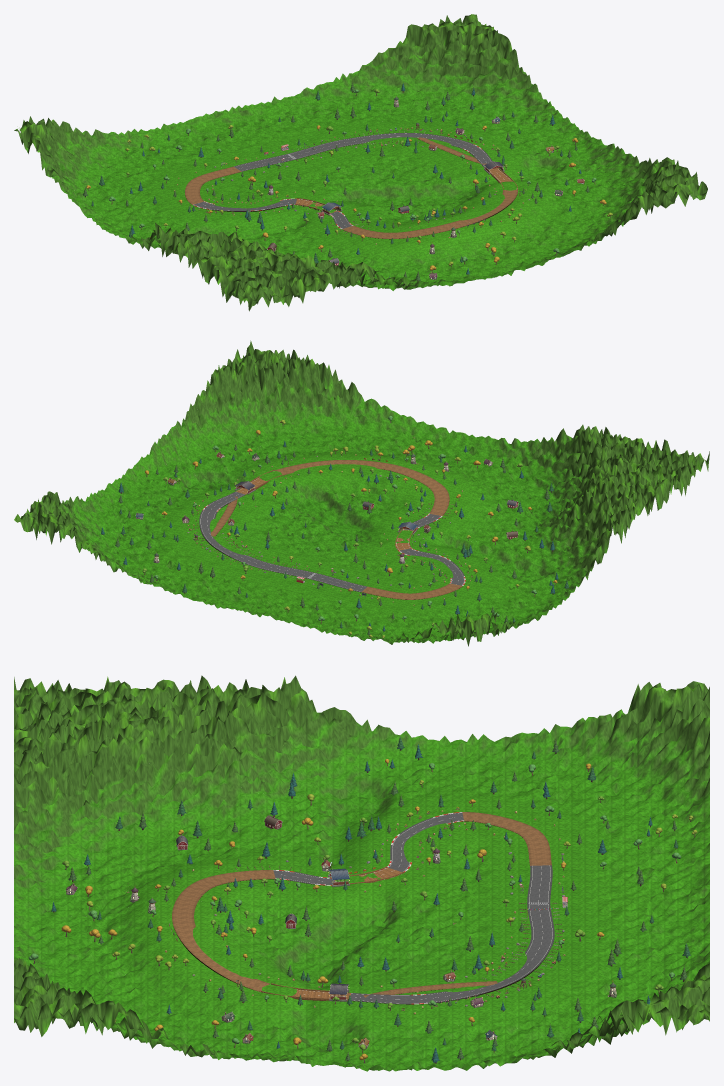
Rendered from vale-moinhos.glb.
3 views of the same model, one above another, from view 1: azimuth 30°, elevation 25°; view 2: azimuth 150°, elevation 25°; view 3: azimuth 270°, elevation 25° (orthographic). The views are drawn at different scales.
Parts seen in each view (by area): view 1: terrain5, terrain4, terrain0, terrain11, terrain1, terrain2, terrain27, terrain3, terrain15, terrain24, terrain17, terrain23 (+40 smaller); view 2: terrain29, terrain18, terrain23, terrain28, terrain24, terrain21, terrain25, terrain12, terrain19, terrain15, terrain26, terrain17 (+40 smaller); view 3: terrain25, terrain18, terrain0, terrain12, terrain24, terrain6, terrain19, terrain1, terrain22, terrain2, terrain27, terrain3 (+47 smaller).
Part boxes in pixels (x1,y1,x2,y2): terrain5: (406,14,518,105); terrain4: (327,36,449,124); terrain0: (14,116,136,193); terrain11: (450,62,562,136); terrain1: (93,124,214,181); terrain2: (170,105,292,162); terrain27: (430,216,551,276); terrain3: (249,82,371,143); terrain15: (339,157,460,210); terrain24: (198,240,317,304); terrain17: (495,117,606,177); terrain23: (541,143,652,204); terrain29: (194,349,307,444); terrain18: (530,480,653,558); terrain23: (149,403,261,484); terrain28: (263,387,385,456); terrain24: (576,443,696,515); terrain21: (296,456,412,516); terrain25: (497,435,618,512); terrain12: (485,539,608,603); terrain19: (452,499,573,554); terrain15: (251,503,371,550); terrain26: (421,450,542,502); terrain17: (104,453,217,508); terrain25: (47,734,179,861); terrain18: (179,675,312,802); terrain0: (577,681,709,805); terrain12: (312,700,444,815); terrain24: (47,676,179,775); terrain6: (445,721,577,804); terrain19: (179,773,312,860); terrain1: (577,778,709,861); terrain22: (179,959,312,1035); terrain2: (577,851,709,917); terrain27: (47,901,179,974); terrain3: (577,908,709,973).
Size of what is drawn, in the model's own units: 705 by 87.66 by 630.
Materials: 35 (20 with a texture image).
